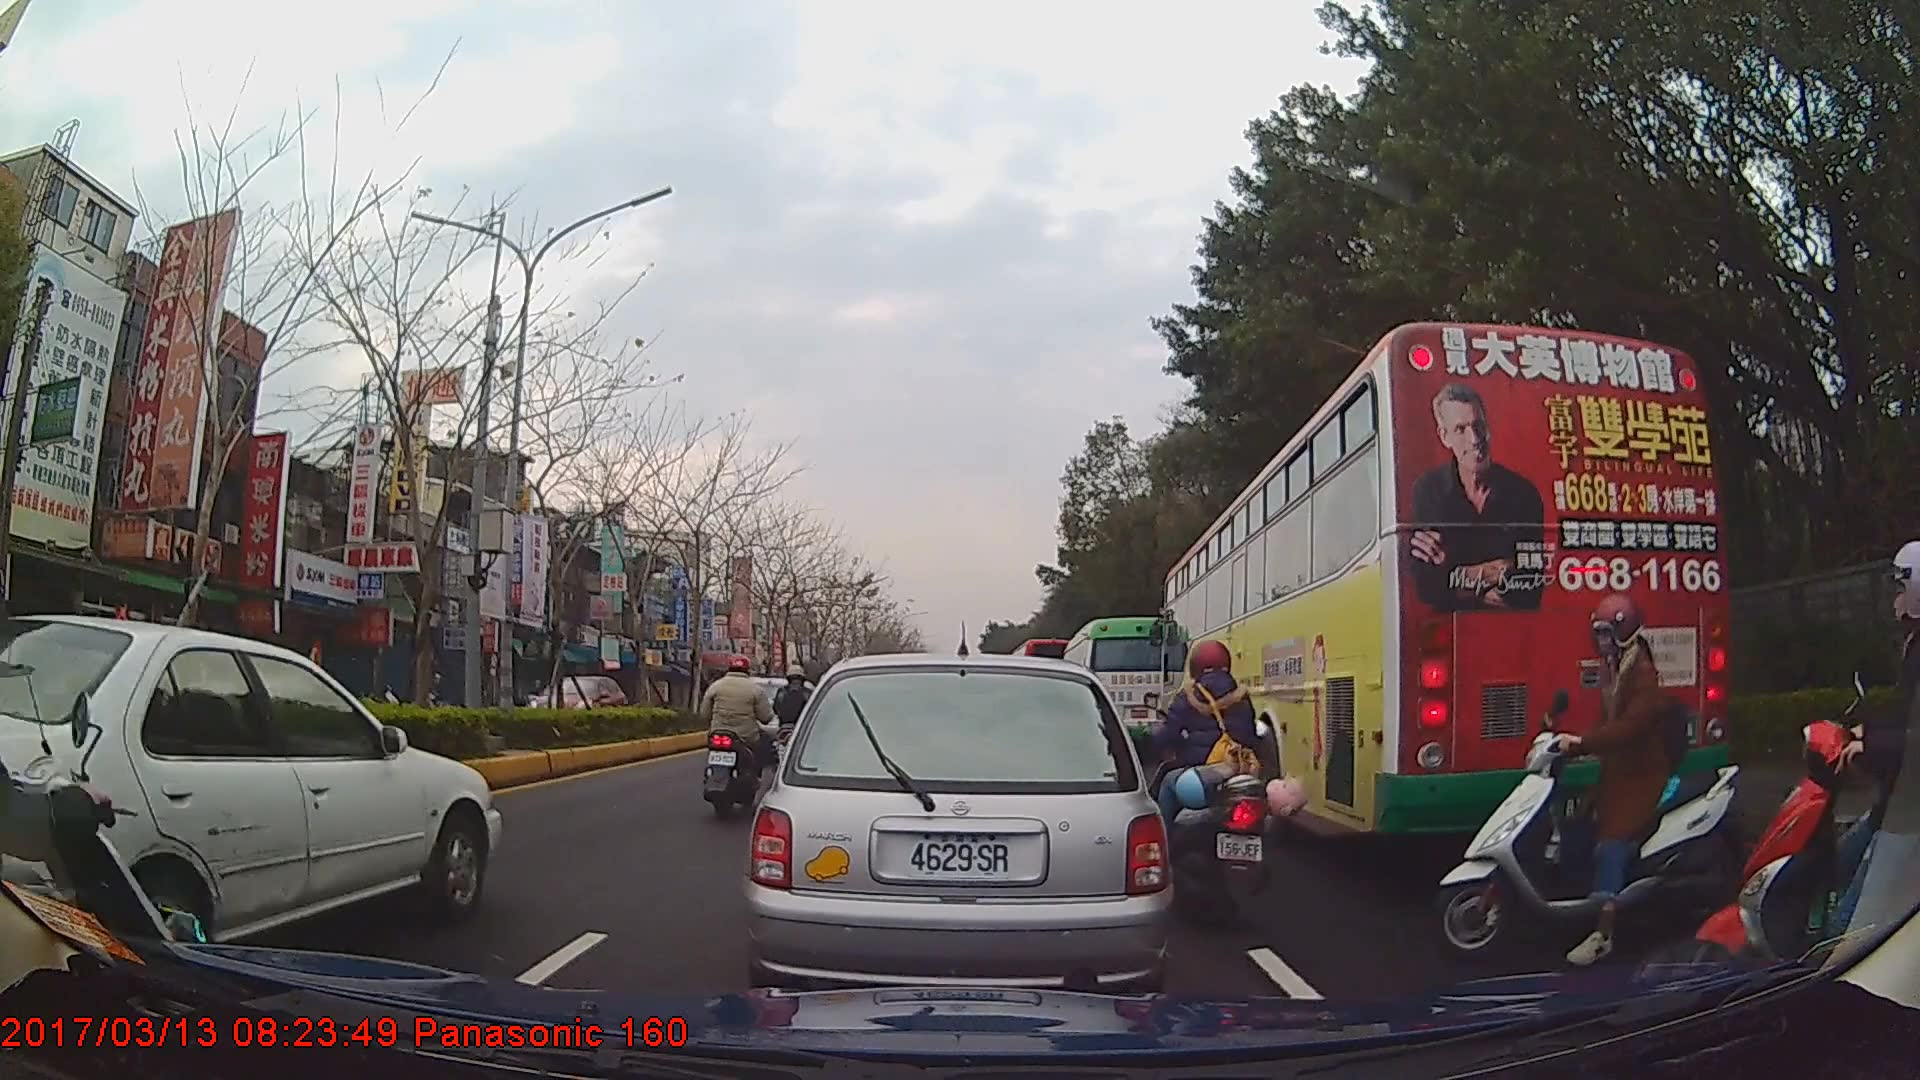rider: (1428, 592, 1742, 964), (1696, 542, 1920, 1006), (1137, 643, 1306, 934), (700, 654, 771, 820), (773, 665, 820, 765)
vehicle: (1159, 319, 1731, 846), (0, 597, 501, 957), (742, 653, 1173, 998), (1061, 615, 1169, 758), (527, 672, 628, 734)
